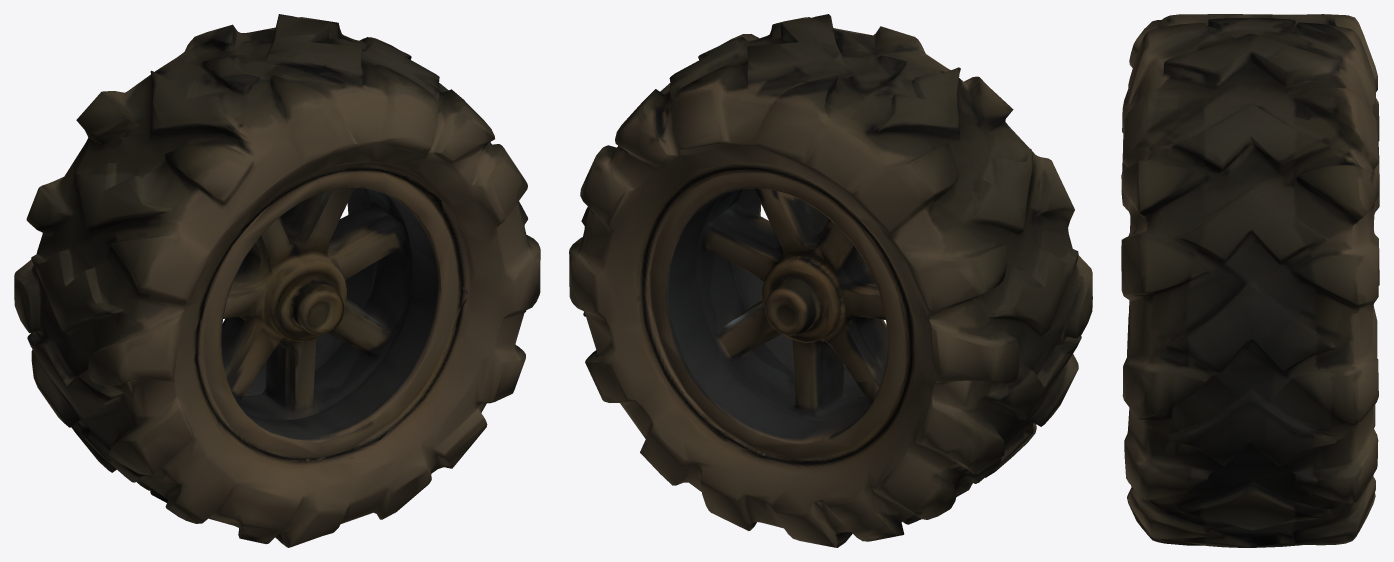
Rendered from quadro_wheel.fbx.
The picture shows the model from 3 angles, left to right: view 1: azimuth 30°, elevation 25°; view 2: azimuth 150°, elevation 25°; view 3: azimuth 270°, elevation 25°; orthographic projection. The views are drawn at different scales.
Parts seen in each view (by area): view 1: node_0.002; view 2: node_0.002; view 3: node_0.002.
Boxes of the visible parts, x1=… form: node_0.002: x1=14, y1=14, x2=540, y2=547; node_0.002: x1=569, y1=14, x2=1092, y2=547; node_0.002: x1=1121, y1=14, x2=1379, y2=547.
Size of the model in its own units: 0.3035 by 0.3039 by 0.1465.
Materials: 1 (1 with a texture image).
